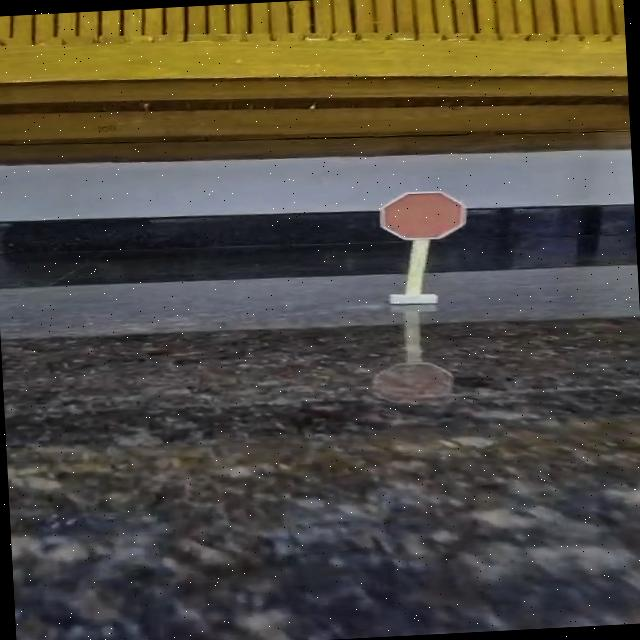Stop: (362, 180, 482, 252)
